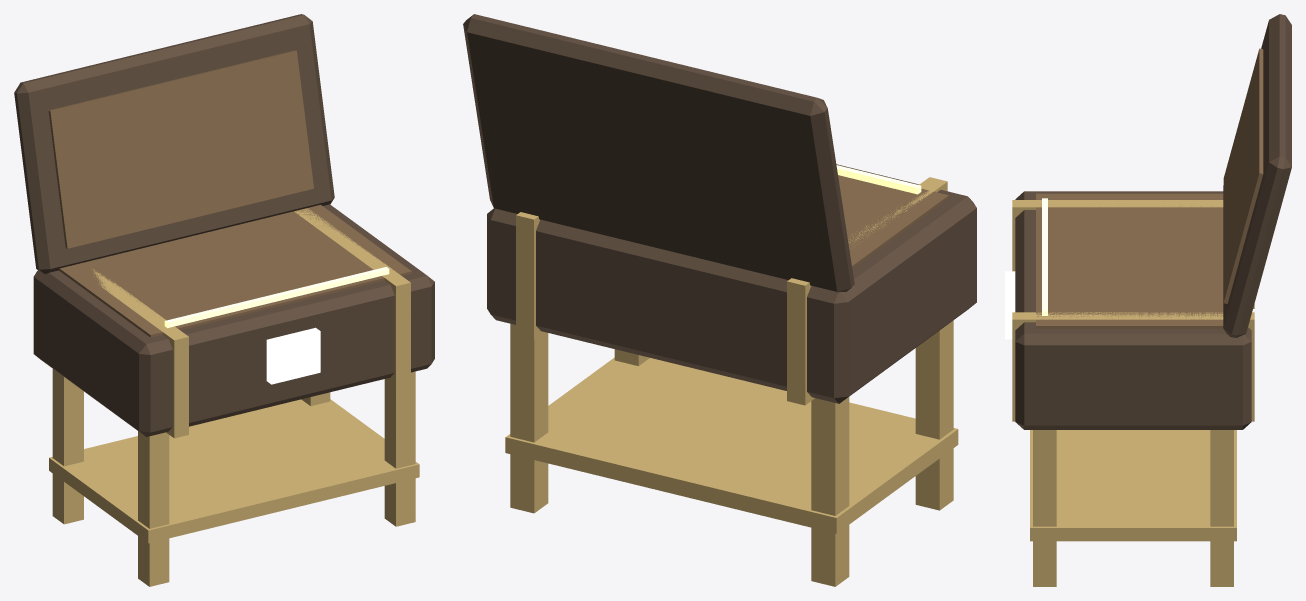
3 renders of one model, left to right at view 1: azimuth 30°, elevation 25°; view 2: azimuth 150°, elevation 25°; view 3: azimuth 270°, elevation 25°, orthographic. The views are drawn at different scales.
Parts seen in each view (by area): view 1: lt_box_ex; view 2: lt_box_ex; view 3: lt_box_ex.
Part boxes in pixels (x1=…): lt_box_ex: x1=14, y1=14, x2=434, y2=586; lt_box_ex: x1=463, y1=14, x2=976, y2=586; lt_box_ex: x1=1005, y1=14, x2=1291, y2=586.
Size of the model in its own units: 1.2 by 1.62 by 0.9712.
